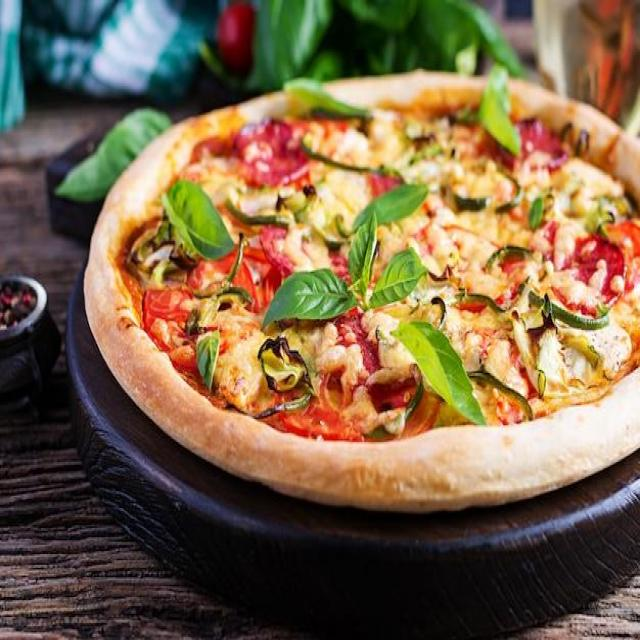basil: (261, 212, 427, 331), (391, 321, 486, 426), (160, 181, 235, 263), (336, 184, 429, 240), (476, 64, 520, 156), (282, 80, 372, 121), (196, 333, 221, 391)
pizza: (83, 69, 640, 513)
